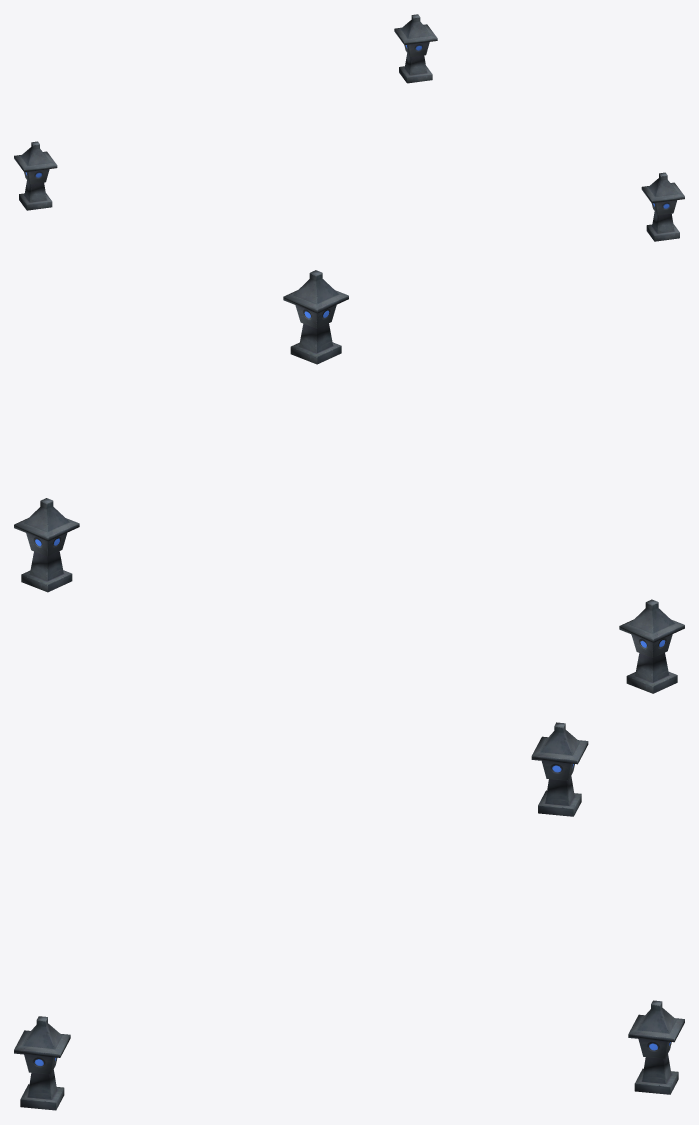
The model's file is xiaowujian15.fbx.
The picture shows the model from 3 angles, top to bottom: view 1: azimuth 30°, elevation 25°; view 2: azimuth 150°, elevation 25°; view 3: azimuth 270°, elevation 25°; orthographic projection. The views are drawn at different scales.
Parts seen in each view (by area): view 1: xiaowujian15; view 2: xiaowujian15; view 3: xiaowujian15.
Boxes of the visible parts, x1=… form: xiaowujian15: x1=14, y1=14, x2=684, y2=241; xiaowujian15: x1=14, y1=270, x2=684, y2=693; xiaowujian15: x1=14, y1=722, x2=684, y2=1110.
Size of the model in its own units: 2106 by 256 by 1880.
